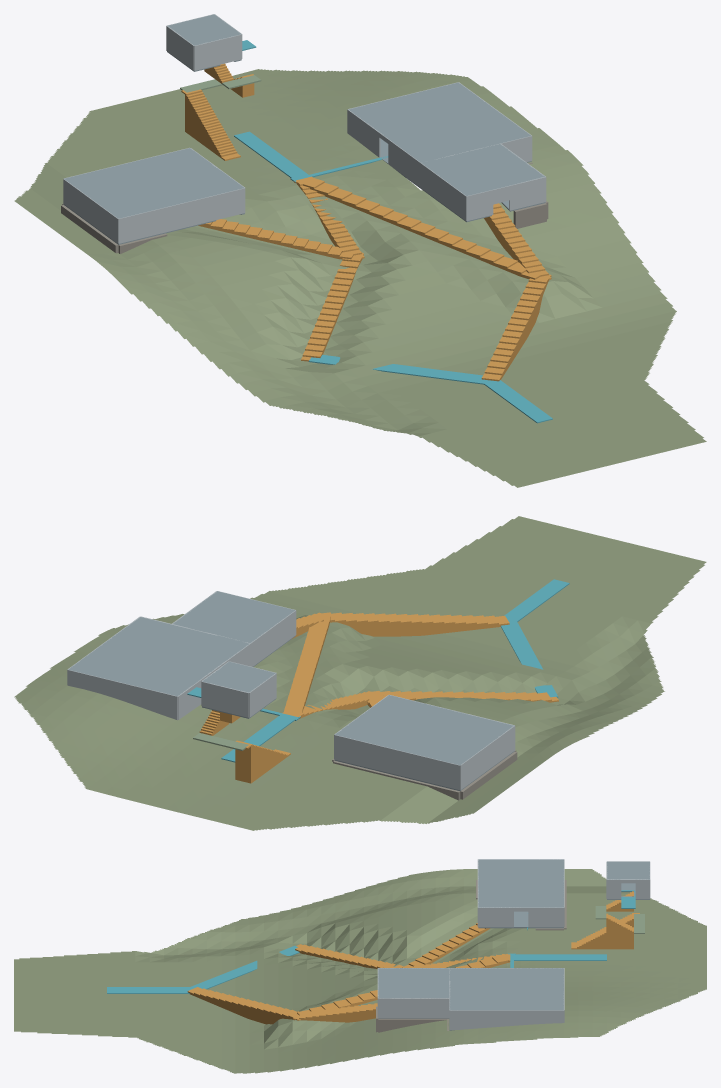
The model's file is benched-terrain.glb.
3 views of the same model, one above another, from view 1: azimuth 30°, elevation 25°; view 2: azimuth 150°, elevation 25°; view 3: azimuth 270°, elevation 25° (orthographic). The views are drawn at different scales.
Visible parts, largest first — view 1: Saved editor stair bench terrain WLD-04, Ceiling cap ruin, Ceiling cap hut, Ceiling cap store, Wall hut S, Opened stair shell Wall store S, Wall hut W, Ceiling cap cab, L02 support 0, Wall cab S, Wall store W, Wall ruin W (+2 smaller); view 2: Saved editor stair bench terrain WLD-04, Ceiling cap ruin, Ceiling cap hut, Ceiling cap store, Wall hut N, Wall ruin N, Wall hut W, Ceiling cap cab, Wall cab N, Wall store W, L02 support 0, Wall cab W (+3 smaller); view 3: Saved editor stair bench terrain WLD-04, Ceiling cap ruin, Ceiling cap hut, Ceiling cap store, Wall ruin E, Wall store E, Ceiling cap cab, Wall hut E, Wall hut E.001, L02 support 0.
Boxes of the visible parts, x1,y1,x2,y2 form: Saved editor stair bench terrain WLD-04: (14,69,706,487); Ceiling cap ruin: (348,82,530,162); Ceiling cap hut: (64,148,243,218); Ceiling cap store: (421,144,544,195); Wall hut S: (118,188,245,243); Opened stair shell Wall store S: (466,177,545,220); Wall hut W: (63,179,118,243); Ceiling cap cab: (168,14,241,45); L02 support 0: (308,354,489,384); Wall cab S: (194,34,241,70); Wall store W: (420,163,466,220); Wall ruin W: (347,109,380,157); Saved editor stair bench terrain WLD-04: (14,516,706,830); Ceiling cap ruin: (68,617,249,696); Ceiling cap hut: (335,695,513,765); Ceiling cap store: (173,591,294,643); Wall hut N: (334,735,460,790); Wall ruin N: (67,669,177,720); Wall hut W: (460,725,515,789); Ceiling cap cab: (202,661,275,692); Wall cab N: (201,681,248,717); Wall store W: (250,610,296,666); L02 support 0: (500,620,558,697); Wall cab W: (249,673,276,717); Saved editor stair bench terrain WLD-04: (14,869,706,1073); Ceiling cap ruin: (449,968,563,1010); Ceiling cap hut: (478,859,563,907); Ceiling cap store: (378,968,449,998); Wall ruin E: (449,1010,563,1029); Wall store E: (378,998,449,1017); Ceiling cap cab: (607,861,649,879); Wall hut E: (528,907,563,927); Wall hut E.001: (478,907,513,927); L02 support 0: (191,946,299,989).
Size of the model in its own units: 59 by 19.15 by 97.
